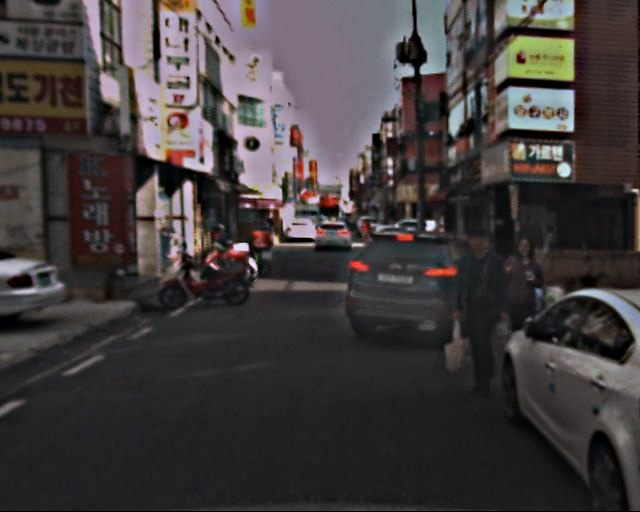person: (441, 224, 516, 397), (496, 237, 551, 362), (263, 218, 274, 244)
